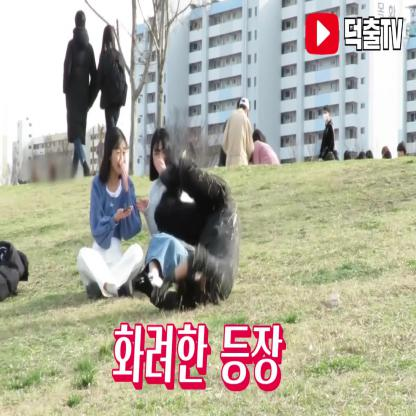Fall_Down: (130, 154, 243, 316)
